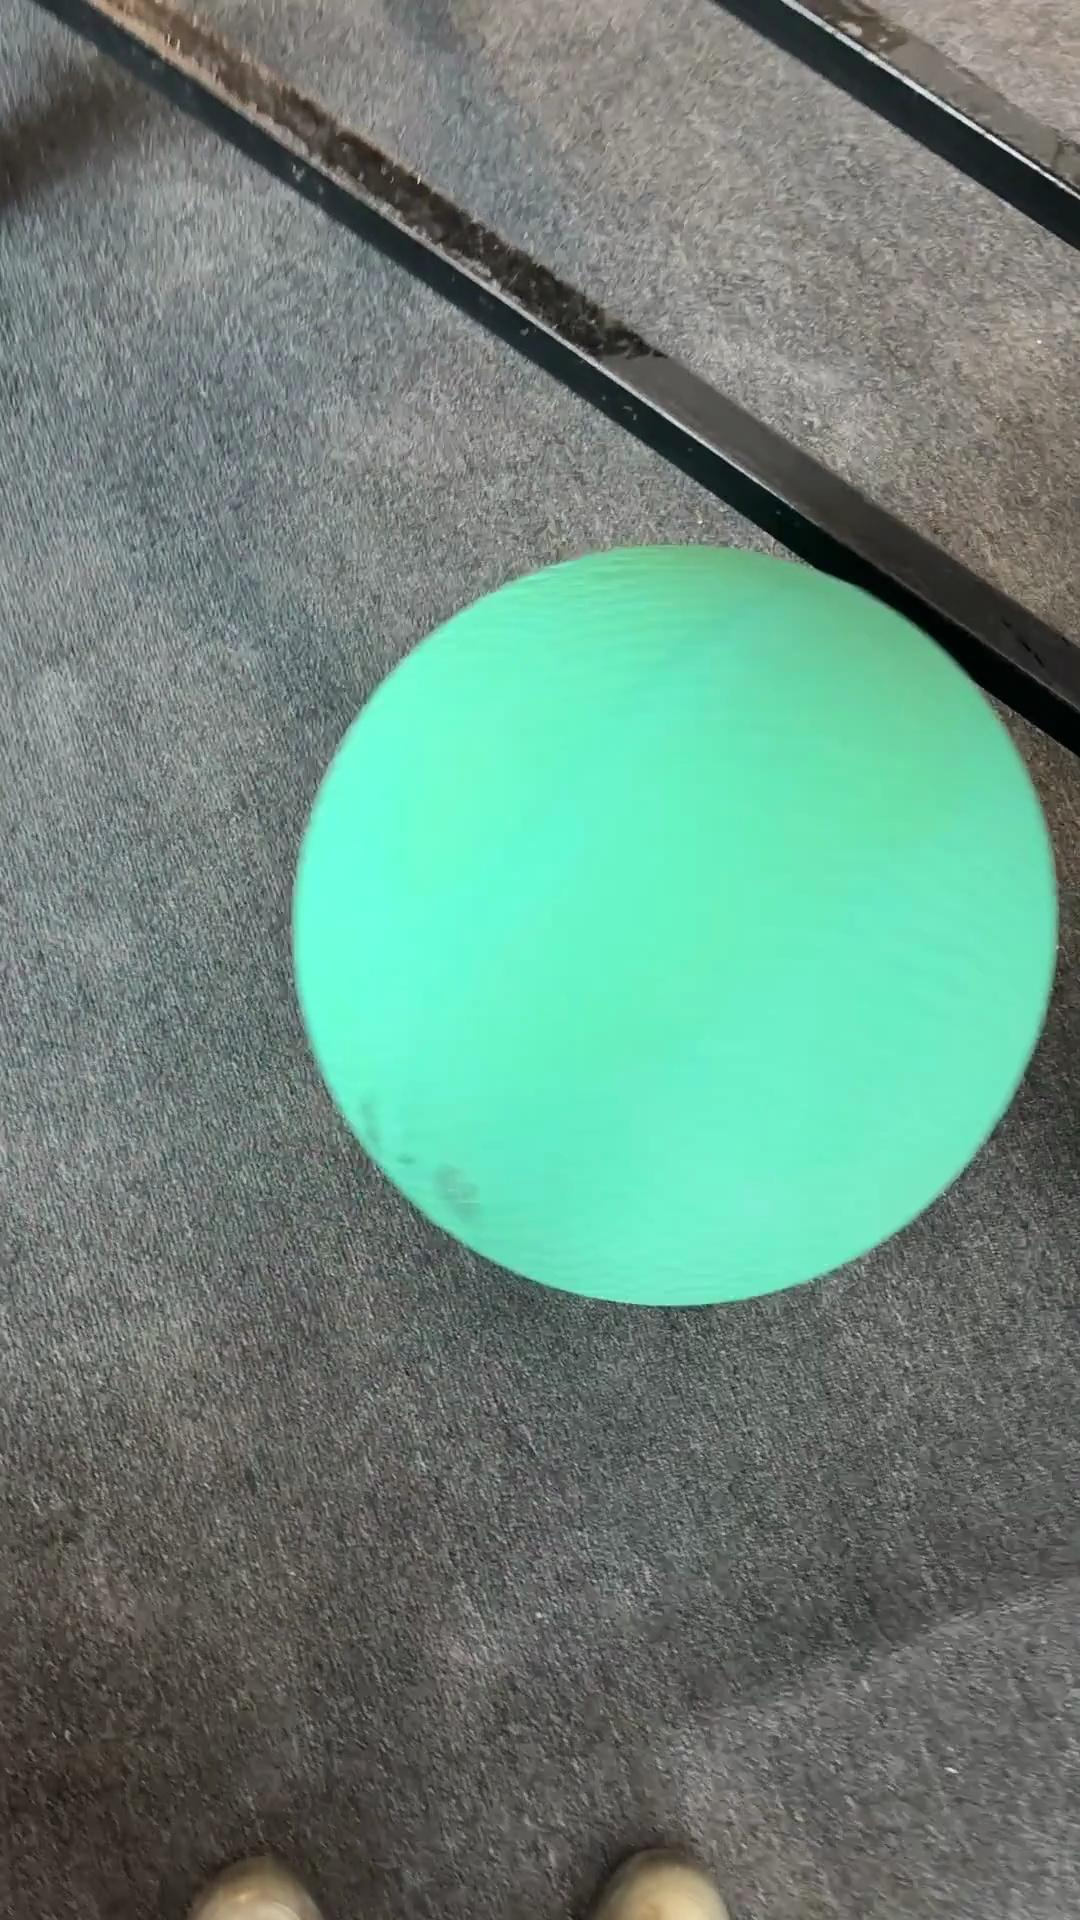ALGAE: (287, 541, 1060, 1309)
